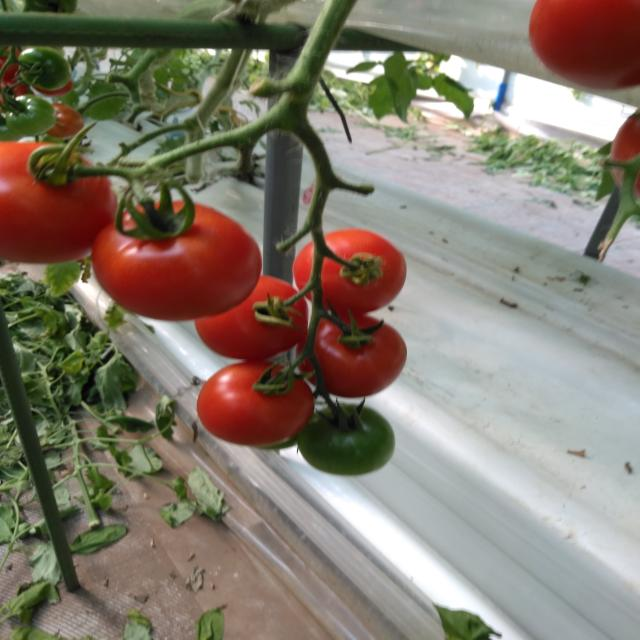c-half-riped: (44, 103, 84, 138)
c-riped: (90, 200, 262, 322), (0, 141, 117, 264), (196, 359, 315, 447), (527, 0, 639, 90), (292, 228, 407, 315), (192, 275, 308, 361), (294, 312, 407, 398)
c-unriped: (295, 404, 397, 476), (17, 46, 72, 92), (3, 94, 56, 137)
